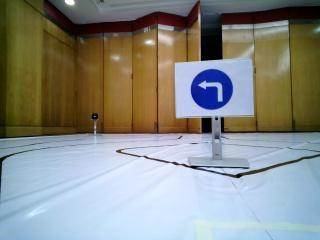left: (177, 61, 247, 117)
